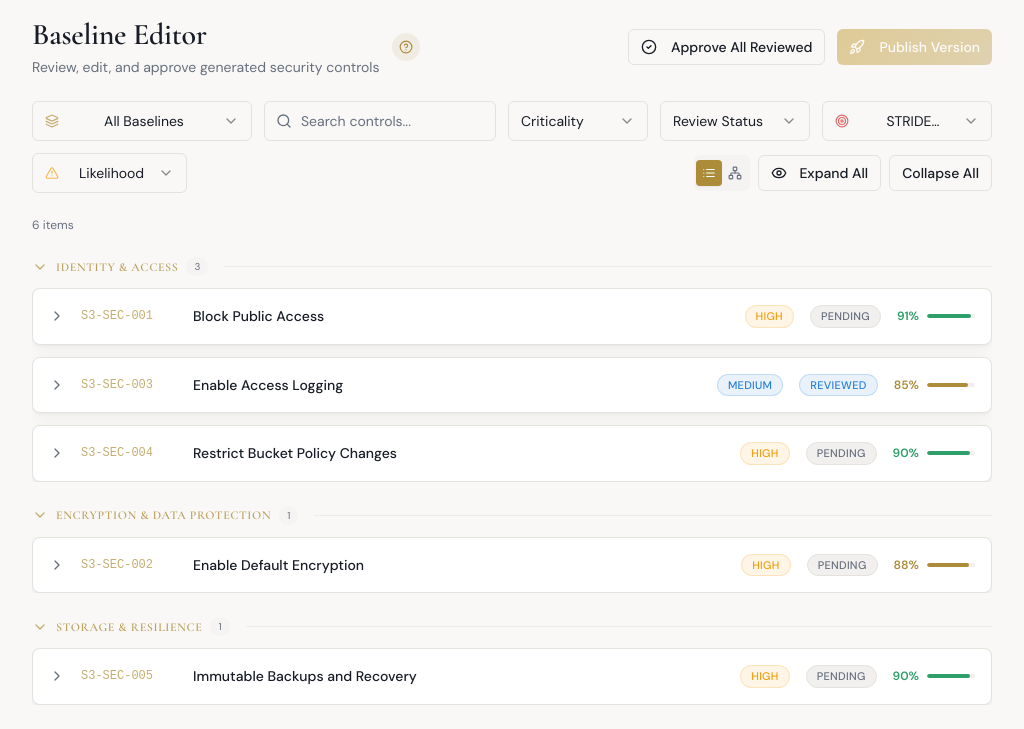
Test case: BaselineEditor › Threat Modeling section › shows no threats message for control without threats
Check: the text "S3-SEC-001" is shown, box top-left (81, 309), bottom-right (153, 323)
Click the button "S3-SEC-002" at (117, 565), box top-left (33, 538), bottom-right (991, 592)
(page scrolled)
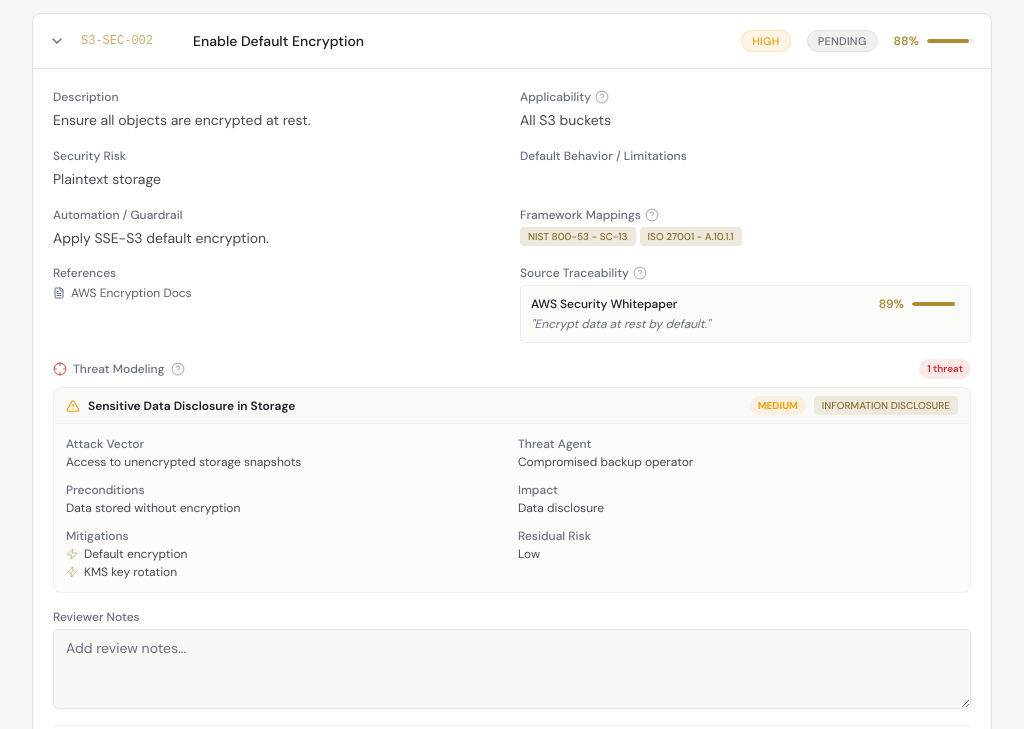
Check: the text "1 threat" is shown, box top-left (919, 359), bottom-right (971, 379)
